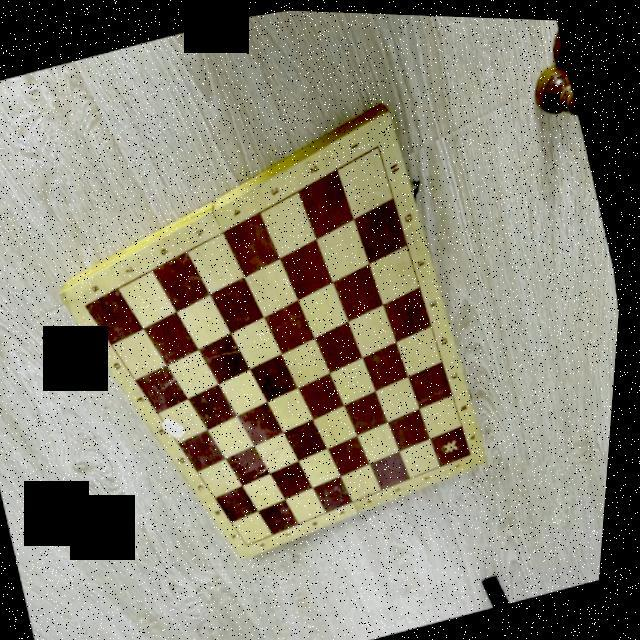chess-table-corners: (372, 134, 390, 155), (84, 298, 98, 312), (252, 538, 260, 548), (475, 448, 481, 454)
